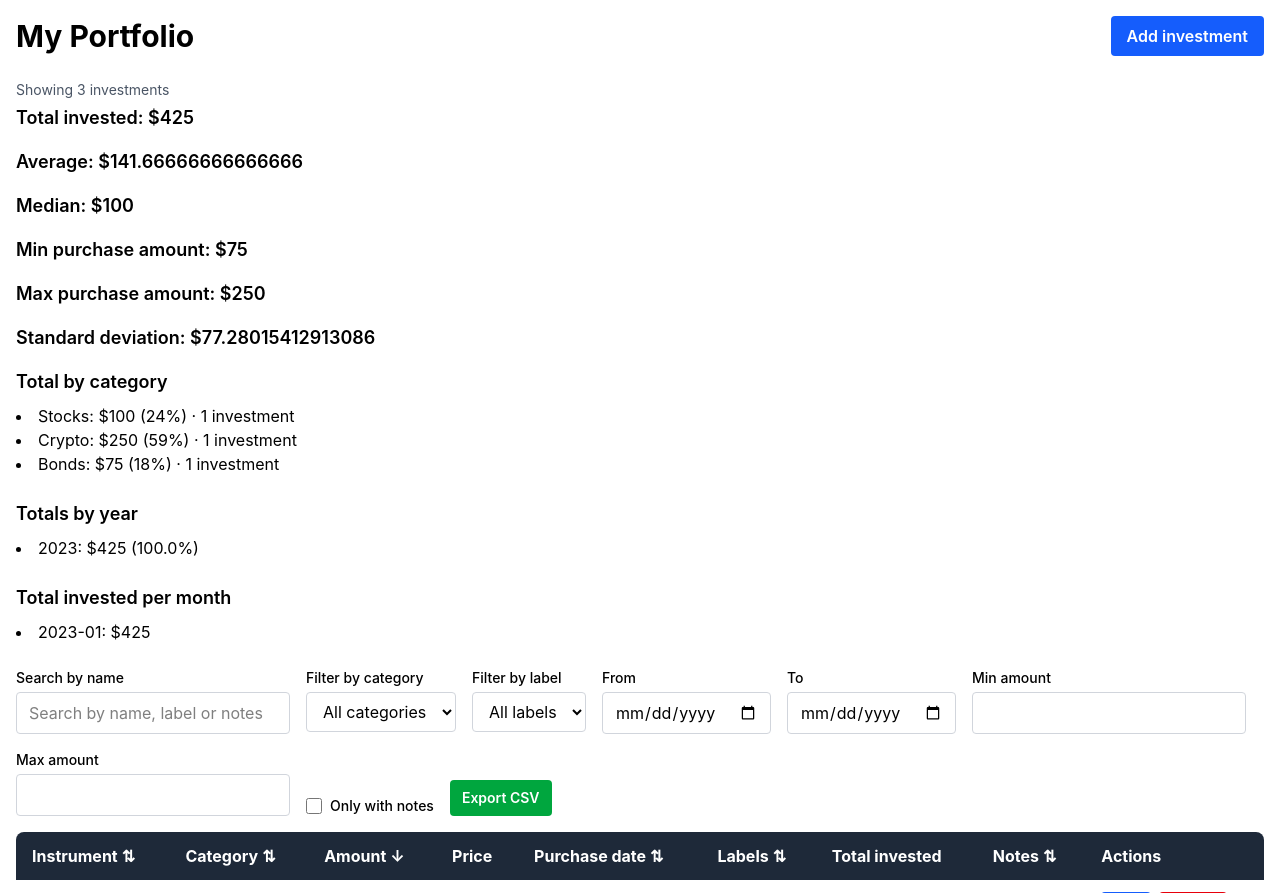
Test: HomePage › filtered investments count summary › AC-002: updates the count when the search box narrows the list
This screenshot has width=1280, height=893.
Type "BTC" into the field labelled "Search by name".
click(153, 713); type("BTC")  # box [16,692,290,734]
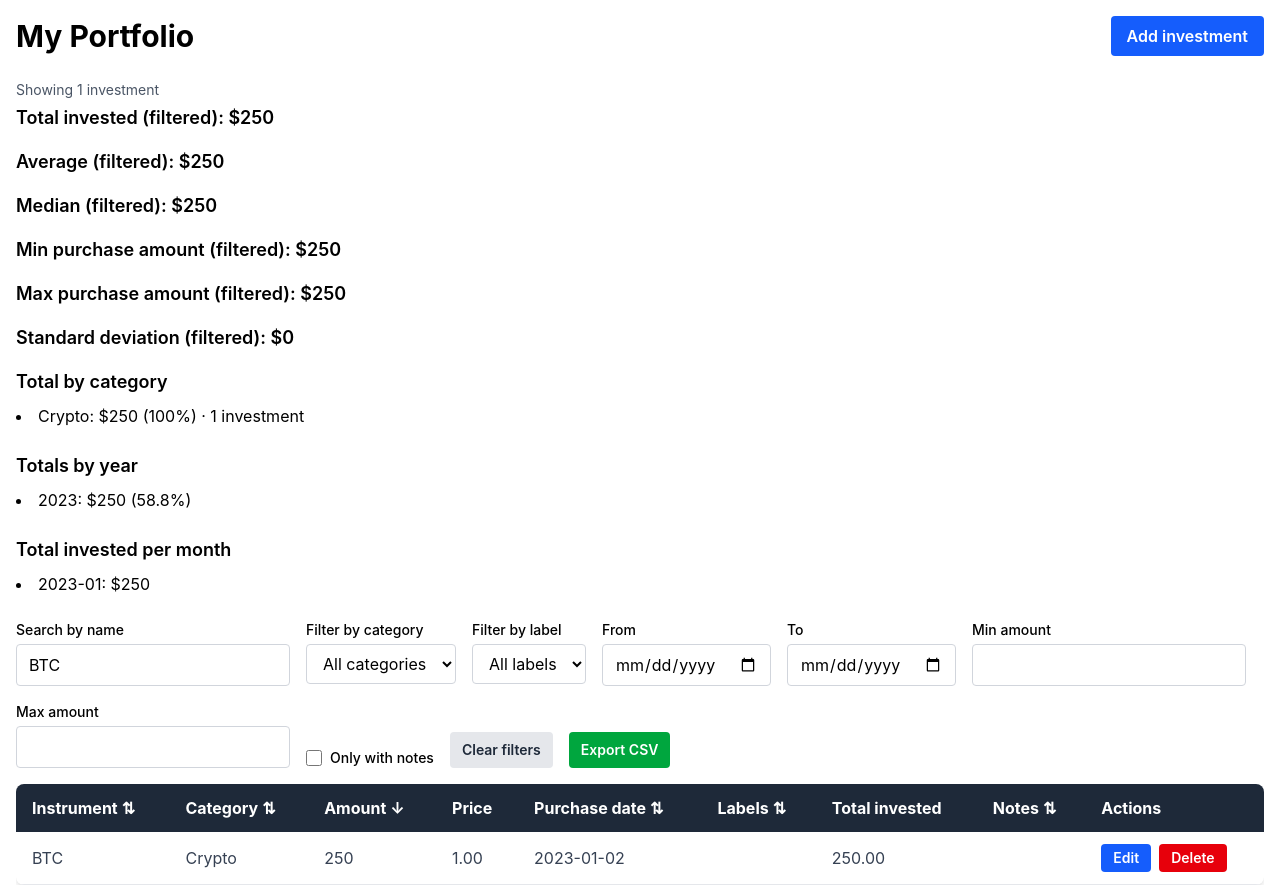
Expected: the text "Showing 1 investment" is shown, [16,81,159,98]
